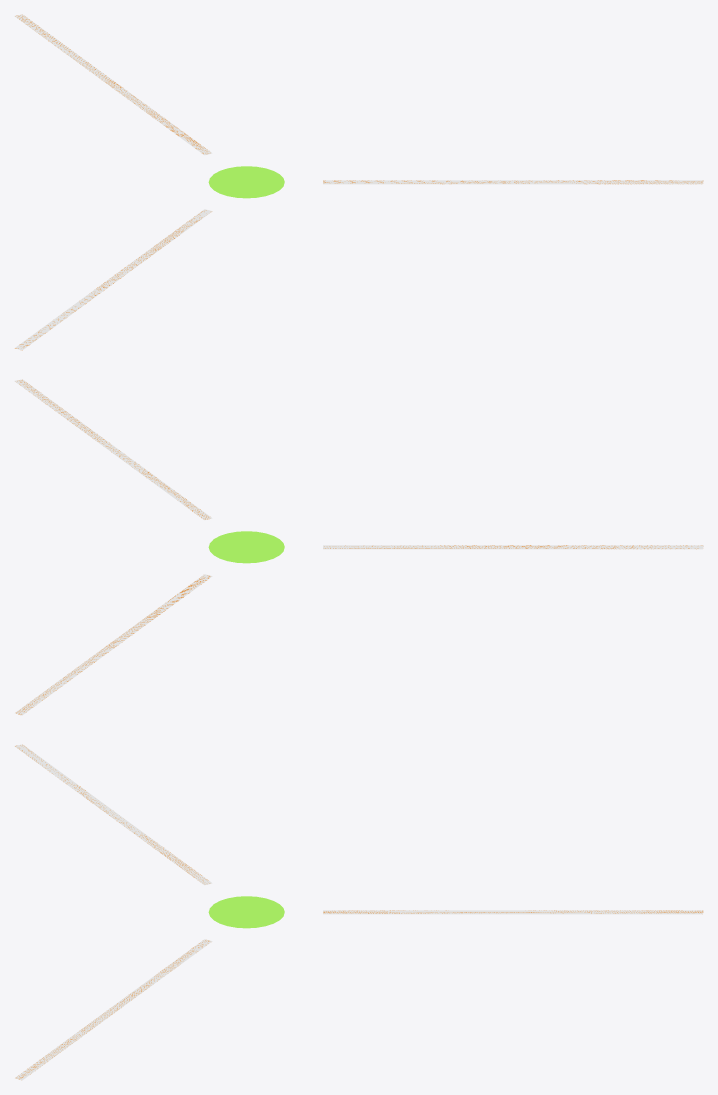
The model's file is antennas.dae.
3 views of the same model, one above another, from view 1: azimuth 30°, elevation 25°; view 2: azimuth 150°, elevation 25°; view 3: azimuth 270°, elevation 25° (orthographic).
Parts seen in each view (by area): view 1: group_0 (×3), SketchUp; view 2: group_0 (×3), SketchUp; view 3: group_0 (×3), SketchUp.
Boxes of the visible parts, x1=… form: group_0 (×3): x1=14, y1=14, x2=703, y2=350; SketchUp: x1=208, y1=166, x2=284, y2=198; group_0 (×3): x1=14, y1=379, x2=703, y2=715; SketchUp: x1=208, y1=531, x2=284, y2=563; group_0 (×3): x1=14, y1=744, x2=703, y2=1080; SketchUp: x1=208, y1=896, x2=284, y2=928.
Size of the model in its own units: 822 by 713 by 6.01e-08.
